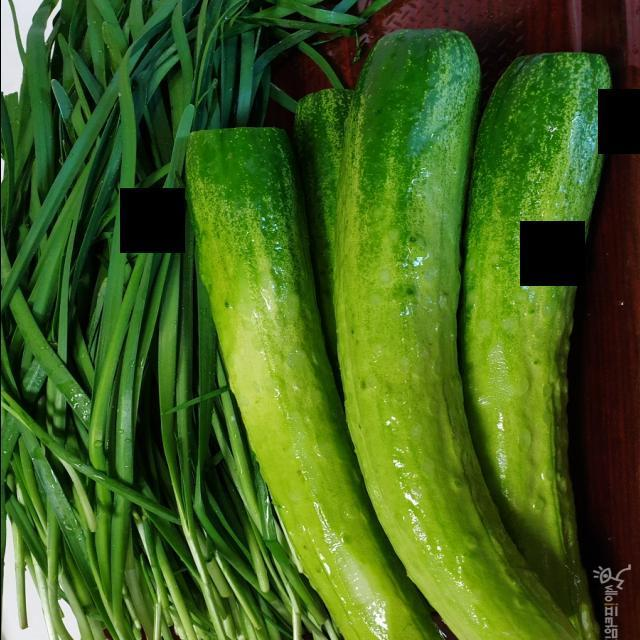cucumber: (316, 30, 628, 640), (182, 111, 470, 640)
